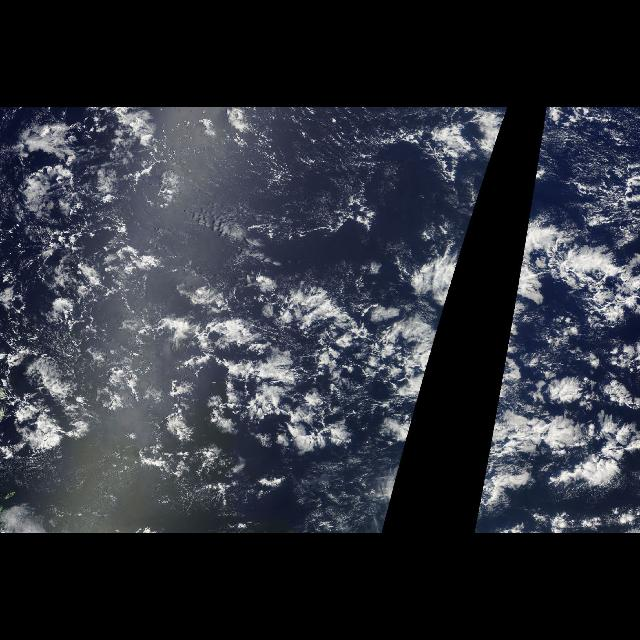Flower: (16, 120, 504, 500), (473, 121, 639, 534)
Gravel: (178, 277, 384, 458)
Sugar: (159, 111, 507, 237), (524, 111, 636, 237)
